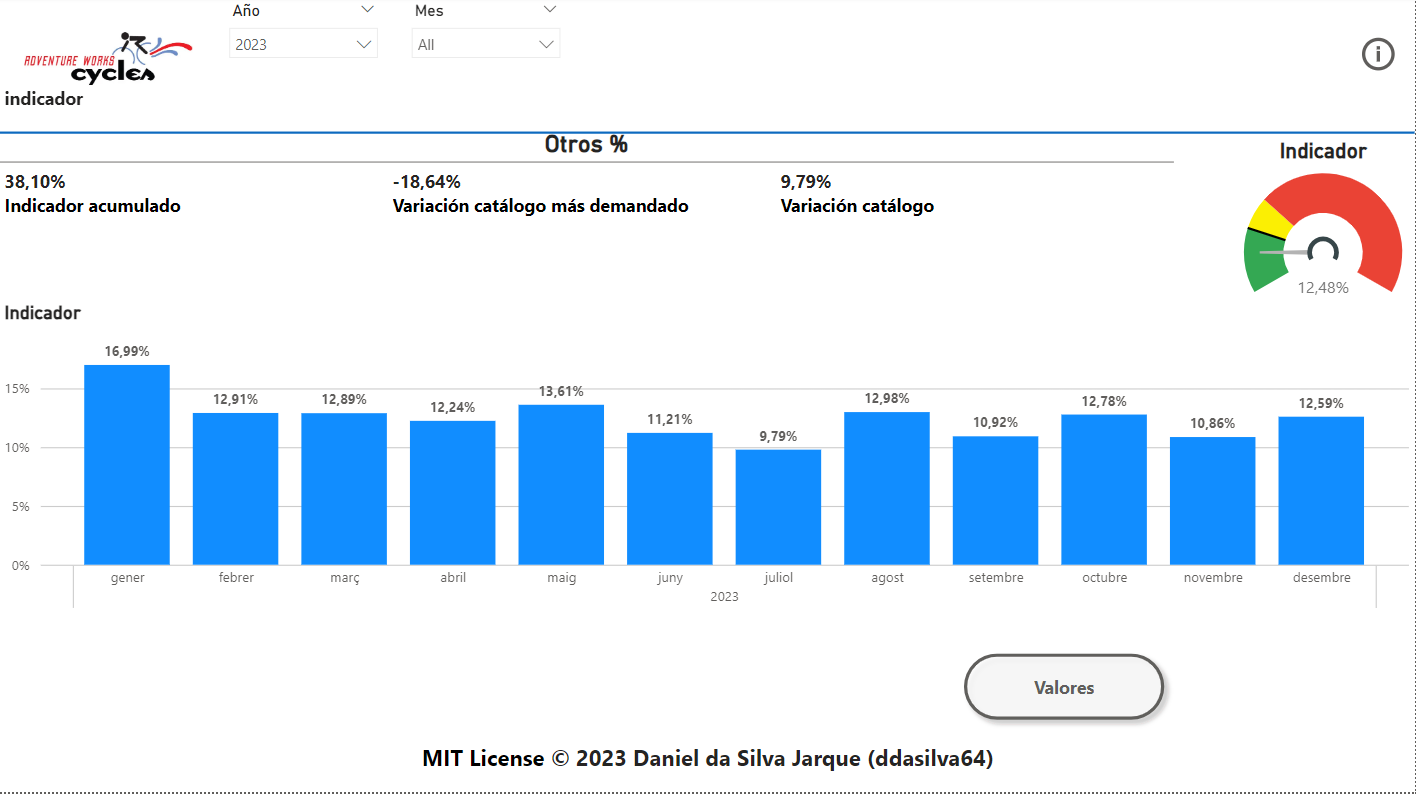

The page's visual inventory and layout, read from the dashboard file:
{"tool":"powerbi","page":{"name":"Porcentajes","canvas":[1280,720],"ordinal":0},"visuals":[{"type":"image","title":"imgLogo","box":[0,0,198,119],"z":0,"group":"g5"},{"type":"shape","title":"shpLinia","box":[0,118,1280,12],"z":0,"group":"g7"},{"type":"eaTachometer6616D82ED23A4C048E1D3CD4604742ED","title":"Indicador","fields":{"EndValue":["Metrics.LTV Max"],"Range2StartValue":["Metrics.LTV rang 1"],"Range3StartValue":["Metrics.LTV rang 2"],"Range4StartValue":["Metrics.LTV rang 3"],"TargetValue":["Metrics.LTV target"],"Y":["Metrics.Media Indicador"]},"box":[1114.1,129,166,161.6],"z":0,"group":"g8"},{"type":"group","id":"g1","title":"Bottons","box":[216,585.6,847.2,78.1],"z":0,"group":"g4"},{"type":"group","id":"g2","title":"Foot","box":[0,666,1280,52.9],"z":0},{"type":"textbox","title":"txtLlicesncia","box":[0,666,1280,52.9],"z":0,"group":"g2"},{"type":"group","id":"g3","title":"Filtros","box":[362.5,0,154.5,65.1],"z":1000,"group":"g7"},{"type":"group","id":"g4","title":"Body","box":[0,121,1280.1,542.7],"z":1000},{"type":"multiRowCard","title":"Otros %","fields":{"Values":["Metrics.Media indicadox","Metrics.Variación catálogo más demandado","Metrics.Variación catálogo"]},"box":[0,121,1062.5,97],"z":1000,"group":"g8"},{"type":"actionButton","title":"btnGoToValores","box":[864,585.7,199.2,78],"z":1000,"group":"g1"},{"type":"group","id":"g5","title":"Identificacion","box":[0,0,198,119],"z":2000,"group":"g7"},{"type":"group","id":"g6","title":"Filtros","box":[197.5,0,154.5,65.1],"z":2000},{"type":"slicer","fields":{"Values":["DimDates.Exercise"]},"box":[197.5,0,154.5,65.1],"z":2001,"group":"g6"},{"type":"slicer","fields":{"Values":["DimDates.ShortMonth"]},"box":[362.5,0,154.5,65.1],"z":2001,"group":"g3"},{"type":"group","id":"g7","title":"Head","box":[0,0,1280.5,130.1],"z":3000},{"type":"textbox","title":"txtIndicador","box":[0,75.6,197.9,32],"z":3000,"group":"g5"},{"type":"actionButton","box":[1227,32.5,41.8,39.5],"z":4000},{"type":"group","id":"g8","title":"Fix","box":[0,121,1280.1,169.6],"z":7000,"group":"g4"},{"type":"clusteredColumnChart","title":"Indicador","fields":{"Y":["Sum(CSV_HechosAgregado.Indicador)"],"Category":["CSV_HechosAgregado.fecha.Variation.Jerarquia de dates.Any","CSV_HechosAgregado.fecha.Variation.Jerarquia de dates.Mes"]},"box":[0,275.6,1280,289.7],"z":8000,"group":"g4"}]}

Visuals, with their boxes in screenshot pixels (x1, y1, x2, y2), scaled from the page's 1280x720 canvas onto the 1416x794 screenshot:
"imgLogo" image: left=0, top=0, right=219, bottom=131
"shpLinia" shape: left=0, top=130, right=1415, bottom=143
"Indicador" eaTachometer6616D82ED23A4C048E1D3CD4604742ED: left=1232, top=142, right=1415, bottom=320
"Bottons" group: left=239, top=646, right=1176, bottom=732
"Foot" group: left=0, top=734, right=1415, bottom=793
"txtLlicesncia" textbox: left=0, top=734, right=1415, bottom=793
"Filtros" group: left=401, top=0, right=572, bottom=72
"Body" group: left=0, top=133, right=1415, bottom=732
"Otros %" multiRowCard: left=0, top=133, right=1175, bottom=240
"btnGoToValores" actionButton: left=956, top=646, right=1176, bottom=732
"Identificacion" group: left=0, top=0, right=219, bottom=131
"Filtros" group: left=218, top=0, right=389, bottom=72
slicer - DimDates.Exercise: left=218, top=0, right=389, bottom=72
slicer - DimDates.ShortMonth: left=401, top=0, right=572, bottom=72
"Head" group: left=0, top=0, right=1415, bottom=143
"txtIndicador" textbox: left=0, top=83, right=219, bottom=119
actionButton: left=1357, top=36, right=1404, bottom=79
"Fix" group: left=0, top=133, right=1415, bottom=320
"Indicador" clusteredColumnChart: left=0, top=304, right=1415, bottom=623
